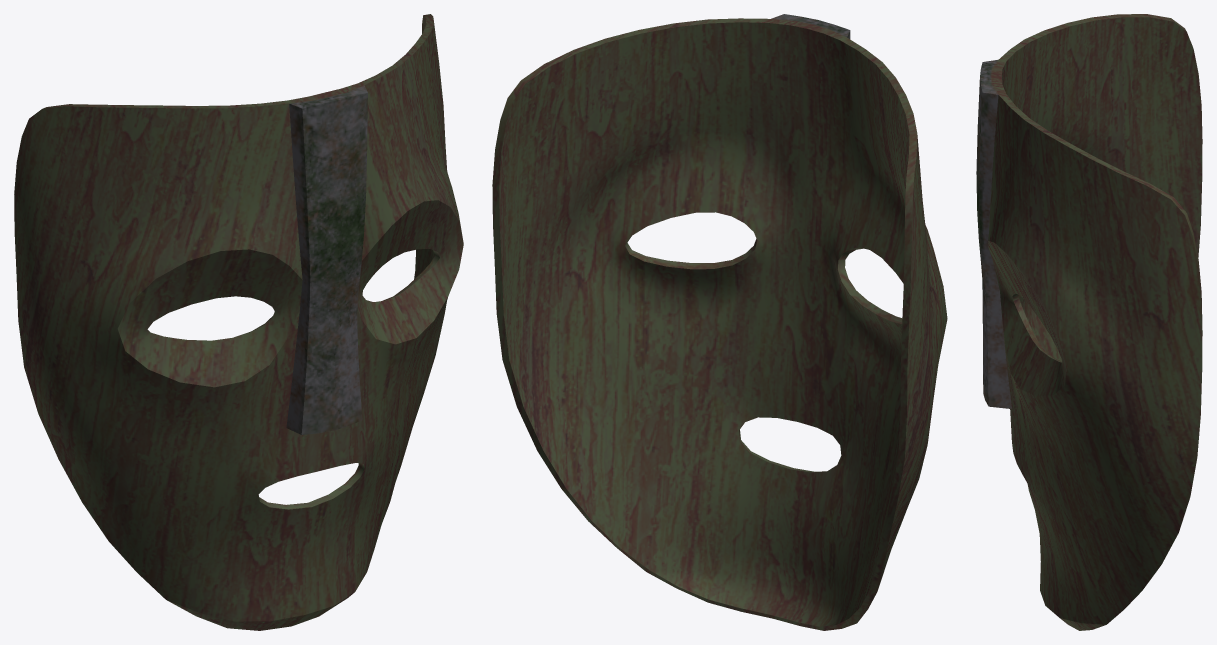
File: loki_mask_from_the_mask_1994_movie.glb
3 views of the same model, side by side, from view 1: azimuth 30°, elevation 25°; view 2: azimuth 150°, elevation 25°; view 3: azimuth 270°, elevation 25° (orthographic). The views are drawn at different scales.
Visible parts, largest first — view 1: default_default_0; view 2: default_default_0; view 3: default_default_0.
Boxes of the visible parts, left/top/right/bottom form: default_default_0: left=14, top=14, right=463, bottom=630; default_default_0: left=492, top=14, right=947, bottom=630; default_default_0: left=976, top=14, right=1202, bottom=630.
Bounding box in the file's own units: 168 × 218 × 83.41.
Materials: 1 (1 with a texture image).
